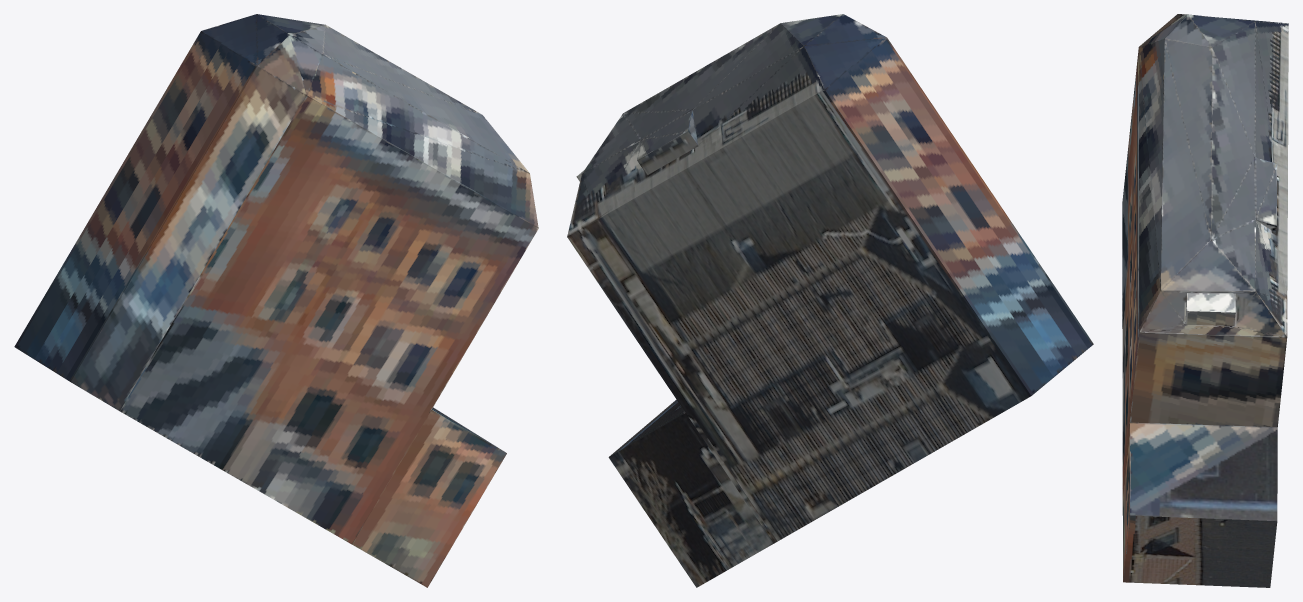
The picture shows the model from 3 angles, left to right: view 1: azimuth 30°, elevation 25°; view 2: azimuth 150°, elevation 25°; view 3: azimuth 270°, elevation 25°; orthographic projection. The views are drawn at different scales.
Parts seen in each view (by area): view 1: BAG_0599100000671717 (×7); view 2: BAG_0599100000671717 (×7); view 3: BAG_0599100000671717 (×9).
Part boxes in pixels (left/top/right/bottom): BAG_0599100000671717 (×7): left=14, top=14, right=538, bottom=587; BAG_0599100000671717 (×7): left=567, top=14, right=1093, bottom=587; BAG_0599100000671717 (×9): left=1122, top=14, right=1288, bottom=587.
Size of the model in its own units: 19.15 by 21.67 by 6.2.
10 materials, 9 textured.
